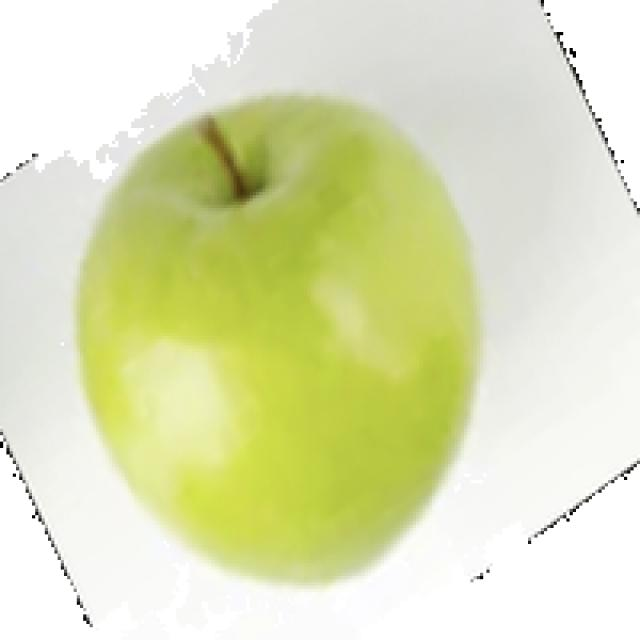apple: (81, 93, 473, 572)
